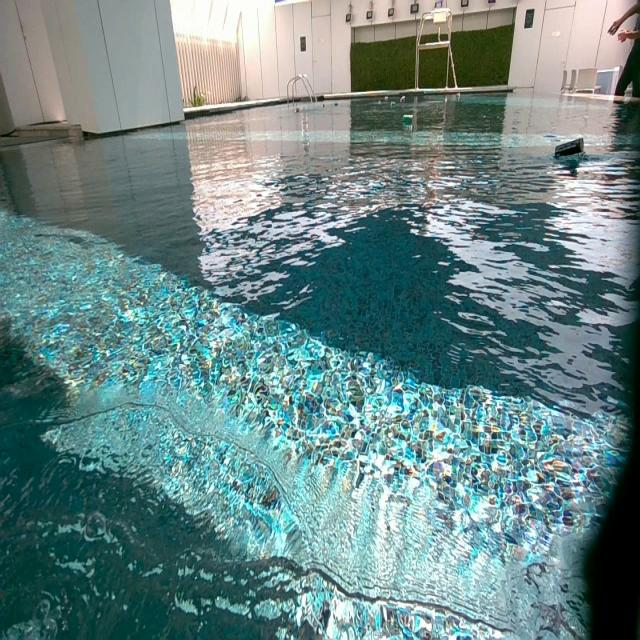Cans: (554, 138, 584, 158), (400, 114, 412, 123), (293, 105, 301, 114), (398, 96, 405, 104), (391, 102, 396, 110), (455, 93, 461, 99), (334, 102, 339, 107), (378, 101, 383, 106), (321, 104, 326, 108), (384, 96, 388, 100)
